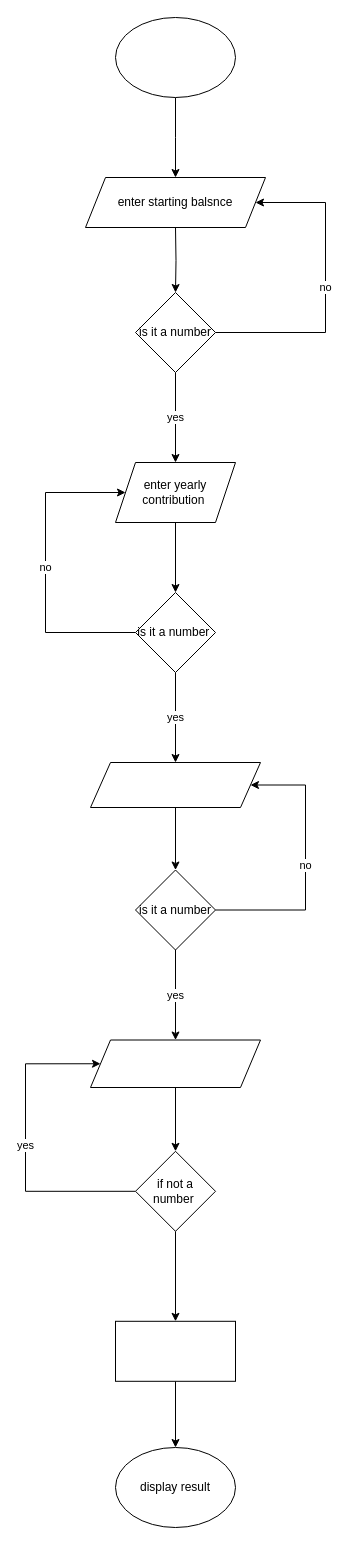
Image size: 351x1545. Some labels were removed from this diagram. Each missing label, with the centre of its shape:
calculate the balance at the end of each year: the point at 175,1350
enter average return on in vestment as %: the point at 175,785
enter the number of years: the point at 175,1063
start: the point at 175,57
